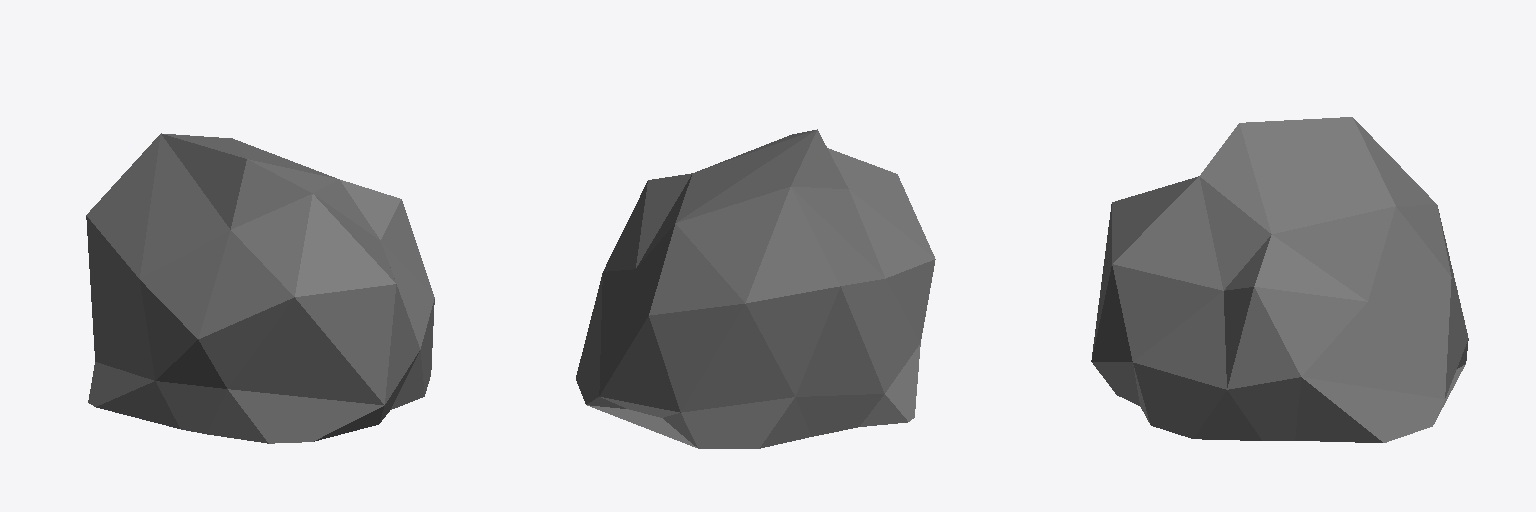
3 renders of one model, left to right at view 1: azimuth 30°, elevation 25°; view 2: azimuth 150°, elevation 25°; view 3: azimuth 270°, elevation 25°, orthographic.
Parts seen in each view (by area): view 1: Icosphere.001; view 2: Icosphere.001; view 3: Icosphere.001.
Part boxes in pixels (bbox=[...]): Icosphere.001: bbox=[86, 133, 434, 443]; Icosphere.001: bbox=[576, 129, 935, 448]; Icosphere.001: bbox=[1091, 117, 1468, 442].
Bounding box in the file's own units: 1.74 × 1.28 × 1.85.
Materials: 1 (1 with a texture image).